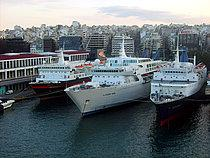Ship: (66, 56, 161, 116), (150, 51, 210, 111), (33, 52, 101, 100)
